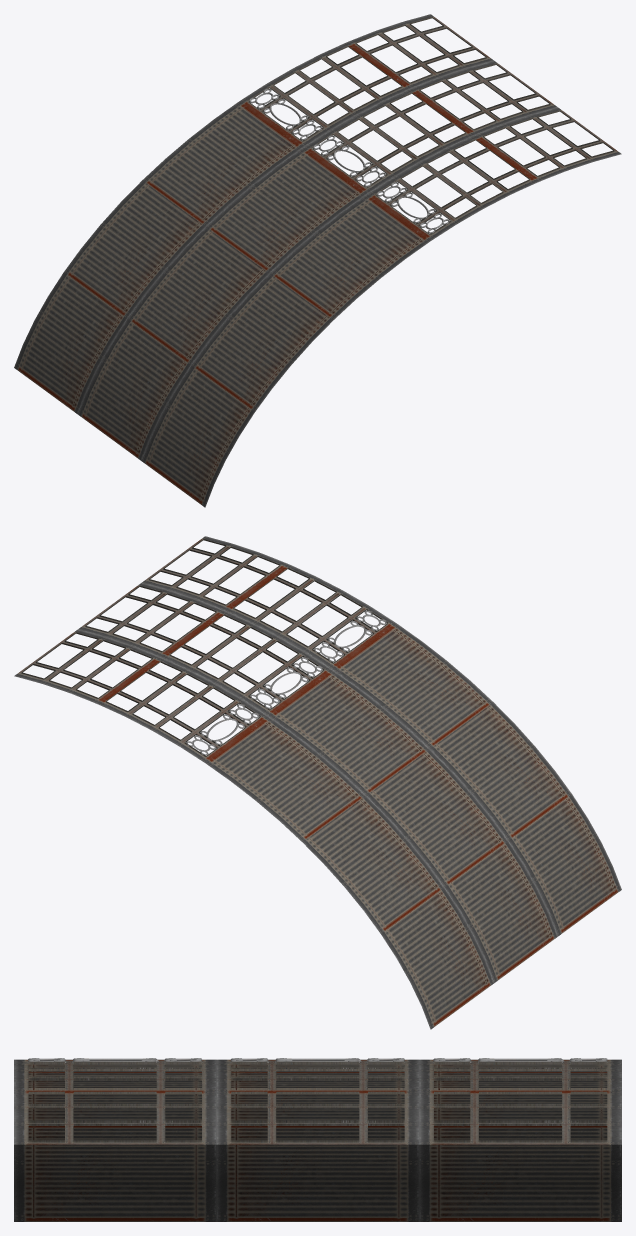
File: SM_RoofTriple.FBX
The picture shows the model from 3 angles, top to bottom: view 1: azimuth 30°, elevation 25°; view 2: azimuth 150°, elevation 25°; view 3: azimuth 270°, elevation 25°; orthographic projection. The views are drawn at different scales.
Parts seen in each view (by area): view 1: SM_RoofTriple; view 2: SM_RoofTriple; view 3: SM_RoofTriple.
Boxes of the visible parts, x1=… form: SM_RoofTriple: x1=14, y1=14, x2=621, y2=507; SM_RoofTriple: x1=14, y1=536, x2=621, y2=1029; SM_RoofTriple: x1=14, y1=1058, x2=621, y2=1221.
Size of the model in its own units: 1509 by 1200 by 877.
